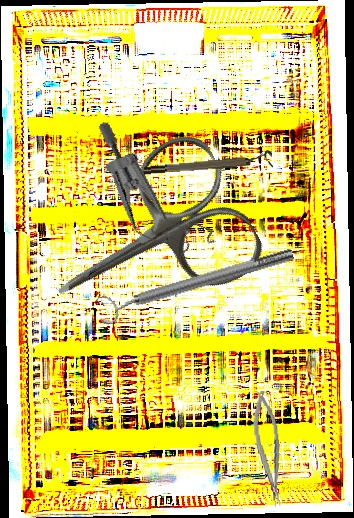Fixation Ring: (94, 239, 298, 328), (143, 150, 273, 177)
Iris Scissors: (20, 125, 272, 358)
Needle Holder: (250, 390, 286, 508)
Speculum: (63, 119, 242, 269)
